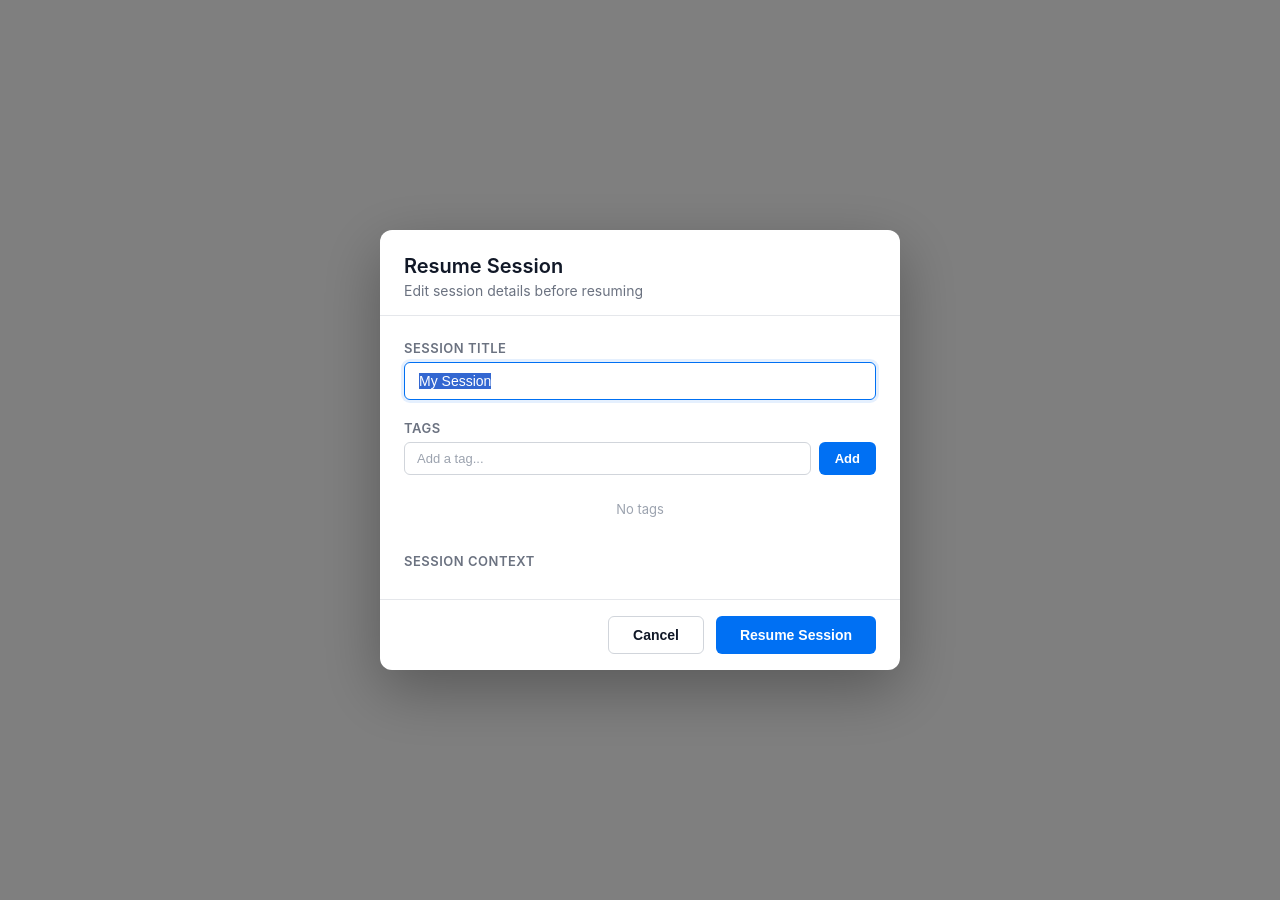
Test: ResumeSessionModal › tag management › adds a tag when Enter is pressed in the tag input
The width and height of the screenshot is (1280, 900).
Type "newTag" into the field with placeholder "Add a tag...". click: x=607, y=458
box: 404,442 -> 811,475
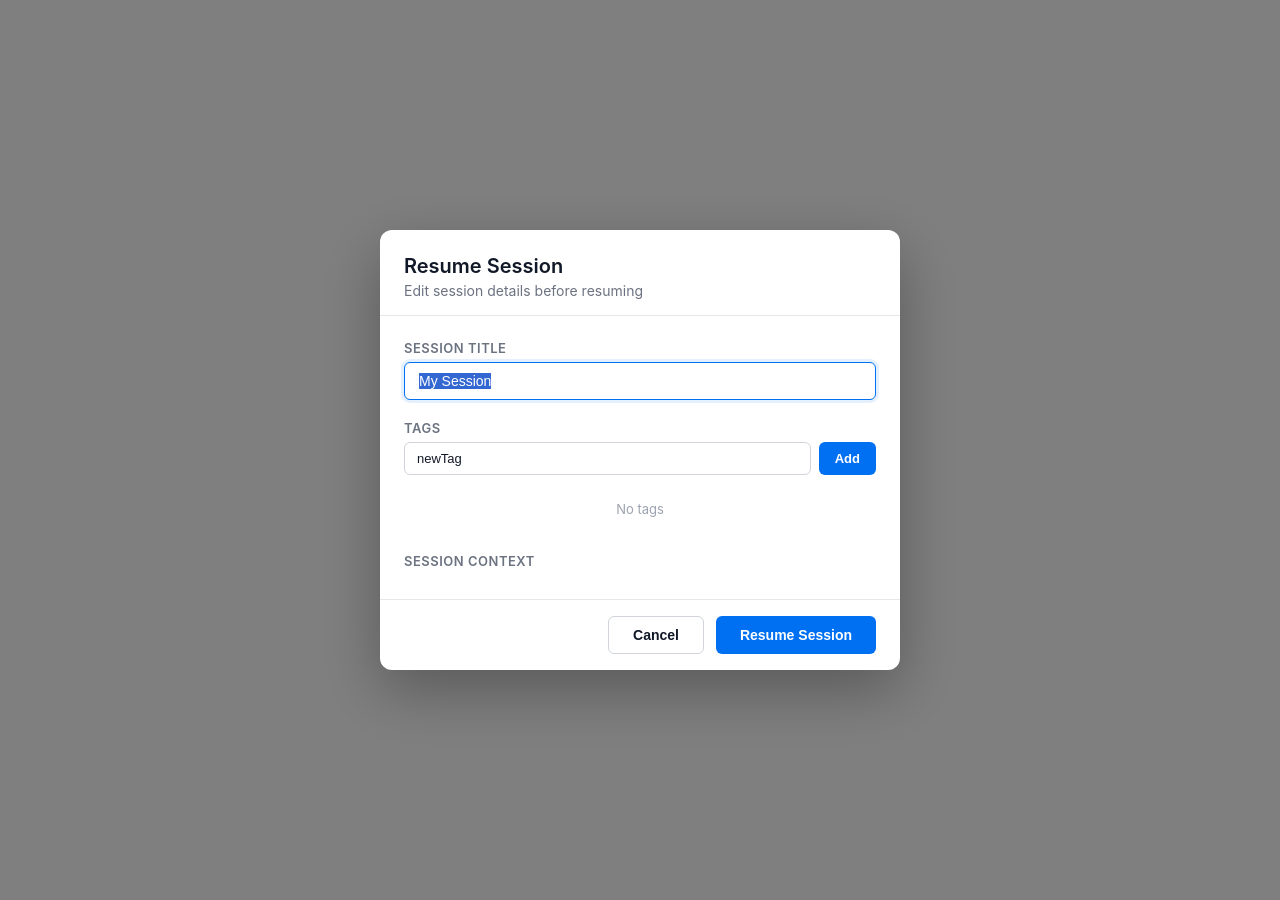
Press Enter in the field with placeholder "Add a tag...", box 404,442 -> 811,475
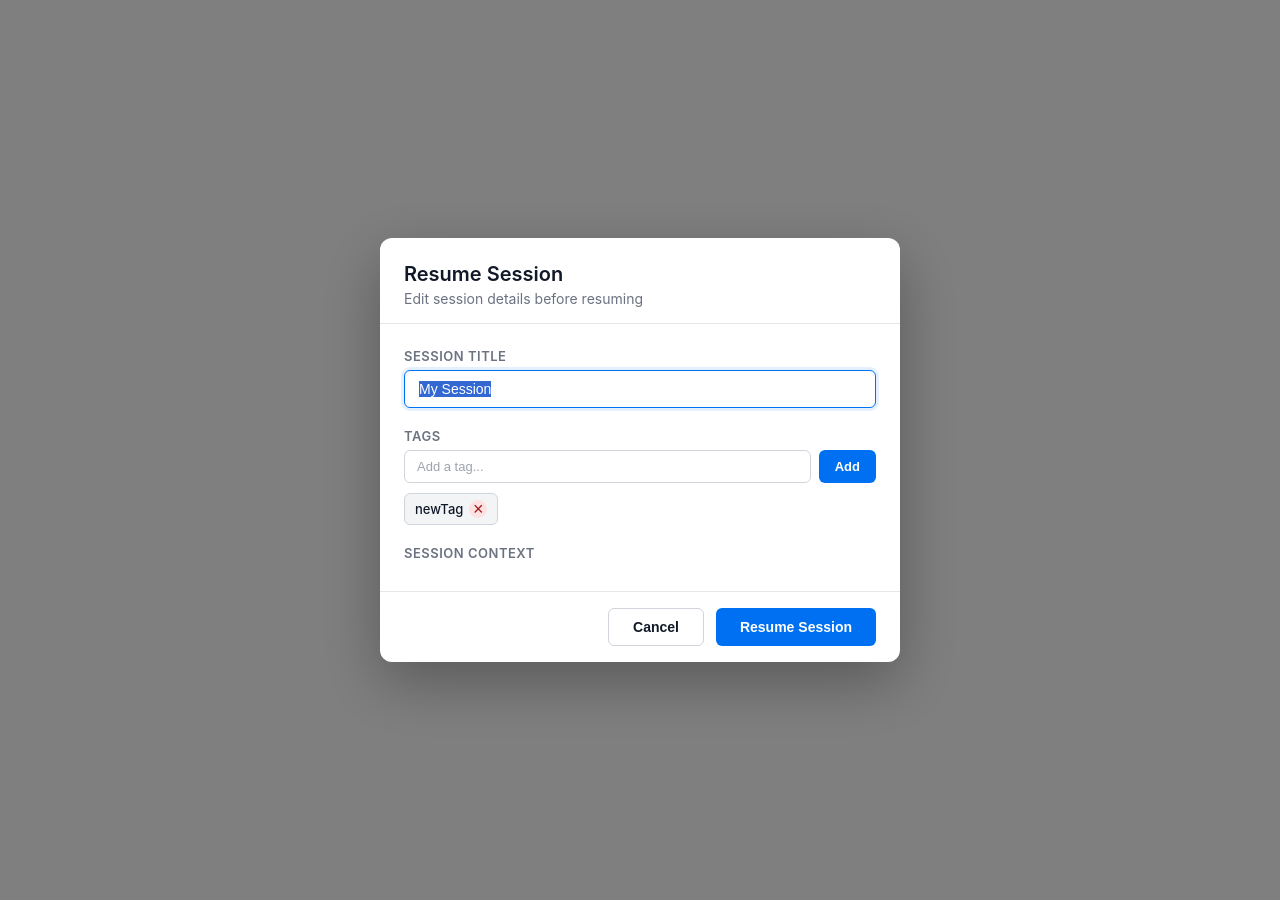
Now the text "newTag" is shown, box 415,501 -> 463,517
